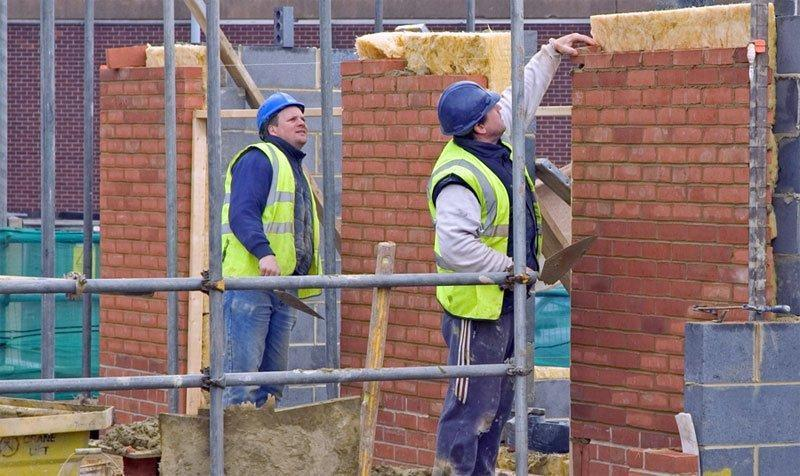Helmet: (428, 75, 497, 135), (248, 91, 305, 124)
Person: (414, 63, 560, 462), (203, 79, 332, 423)
Safety Vest: (431, 135, 546, 330), (225, 142, 331, 306)
bare-arms: (547, 27, 601, 62), (254, 256, 284, 277)
